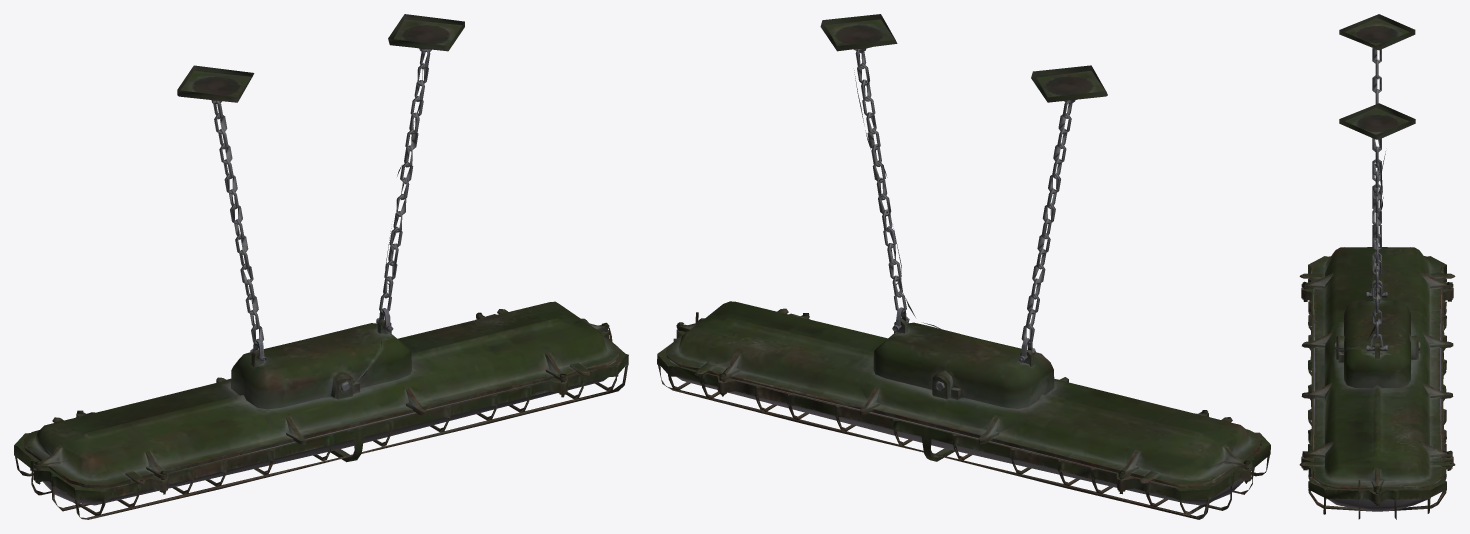
The model's file is sci-fi-hanging-light-left.collider.glb.
The picture shows the model from 3 angles, left to right: view 1: azimuth 30°, elevation 25°; view 2: azimuth 150°, elevation 25°; view 3: azimuth 270°, elevation 25°; orthographic projection. The views are drawn at different scales.
Visible parts, largest first — view 1: caged_hanging_light; view 2: caged_hanging_light; view 3: caged_hanging_light.
Boxes of the visible parts, x1,y1,x2,y2 form: caged_hanging_light: (14,14,628,519); caged_hanging_light: (657,14,1270,519); caged_hanging_light: (1299,14,1455,519).
Size of the model in its own units: 1.16 by 0.7501 by 0.3149.
Materials: 1 (1 with a texture image).
